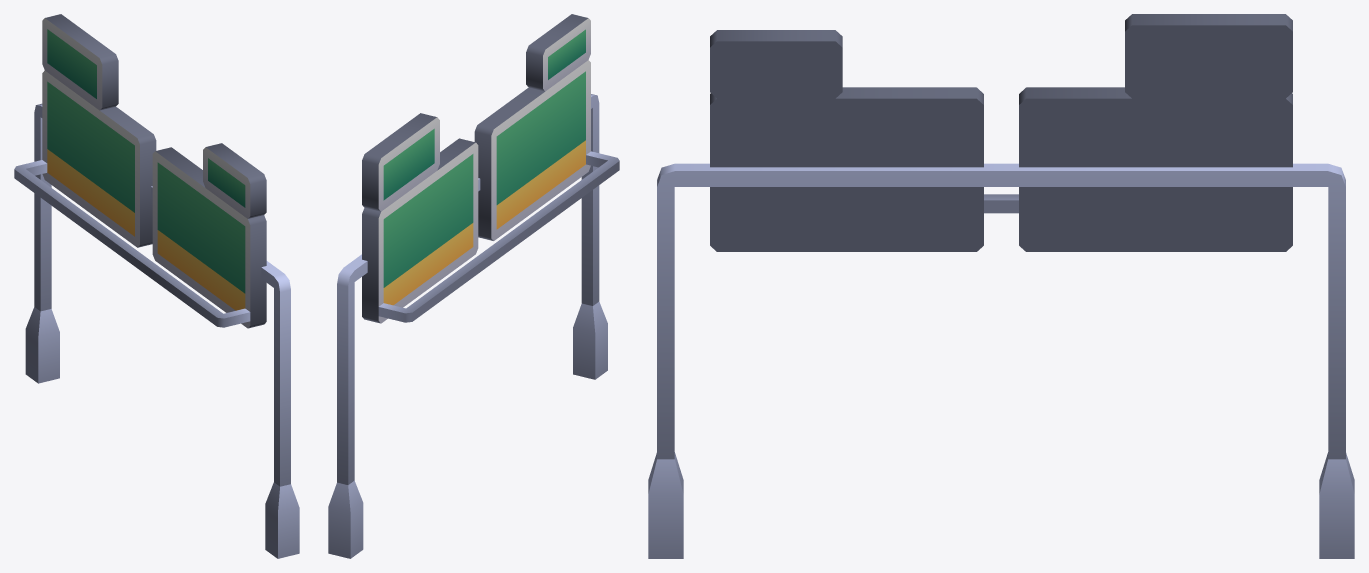
Rendered from sign-highway-detailed.glb.
3 views of the same model, side by side, from view 1: azimuth 30°, elevation 25°; view 2: azimuth 150°, elevation 25°; view 3: azimuth 270°, elevation 25° (orthographic). The views are drawn at different scales.
Visible parts, largest first — view 1: sign-highway-detailed; view 2: sign-highway-detailed; view 3: sign-highway-detailed.
Boxes of the visible parts, left/top/right/bottom form: sign-highway-detailed: left=14, top=14, right=299, bottom=558; sign-highway-detailed: left=328, top=14, right=619, bottom=558; sign-highway-detailed: left=648, top=14, right=1354, bottom=558.
Bounding box in the file's own units: 0.1324 × 0.8221 × 1.
1 material, 1 textured.
